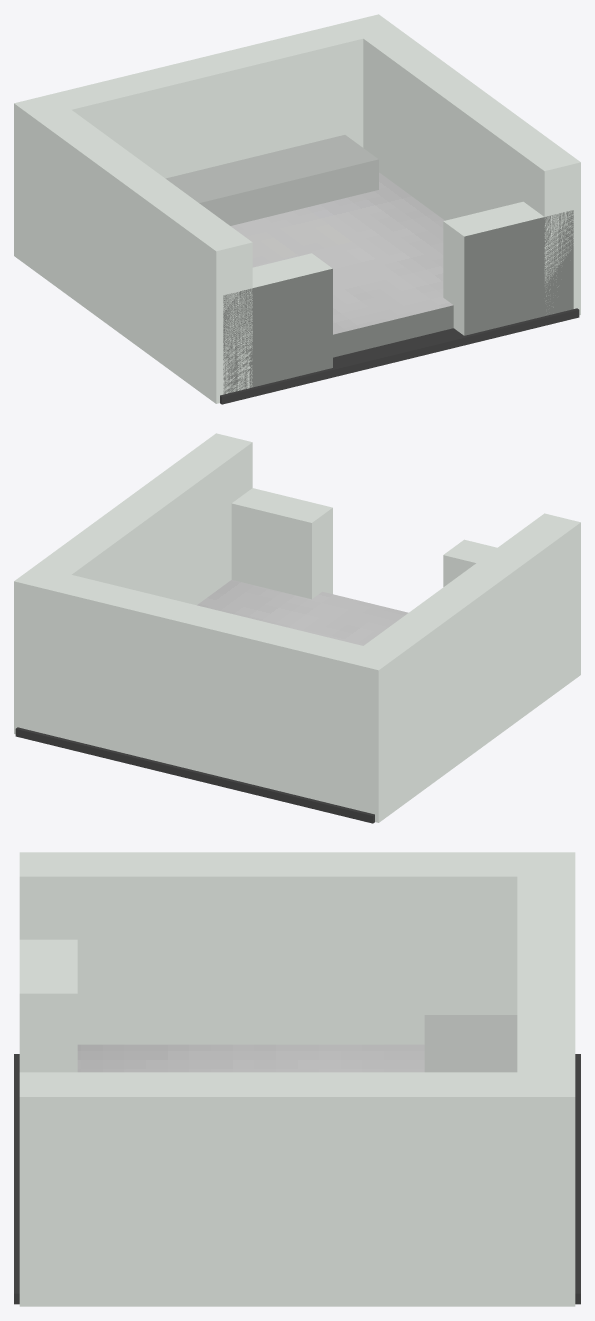
Rendered from Building_AnimalSleepingBox.glb.
3 renders of one model, top to bottom at view 1: azimuth 30°, elevation 25°; view 2: azimuth 150°, elevation 25°; view 3: azimuth 270°, elevation 25°, orthographic. The views are drawn at different scales.
Parts seen in each view (by area): view 1: AnimalSleepingBox; view 2: AnimalSleepingBox; view 3: AnimalSleepingBox.
Boxes of the visible parts, x1,y1,x2,y2 form: AnimalSleepingBox: (14, 14, 580, 404); AnimalSleepingBox: (14, 433, 580, 823); AnimalSleepingBox: (14, 852, 580, 1306).
Bounding box in the file's own units: 1 × 0.4 × 0.98.
1 material, 1 textured.
